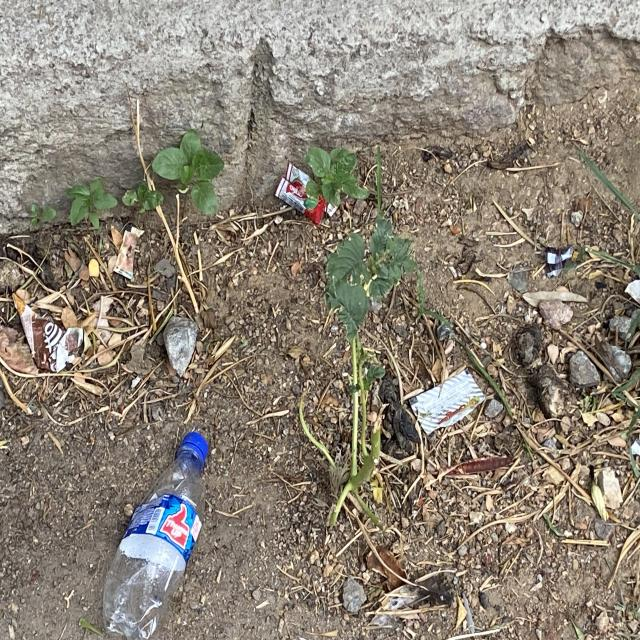chai_nhua: (102, 433, 208, 640)
giay_goi: (12, 294, 83, 372), (410, 369, 485, 435), (275, 163, 328, 224)
